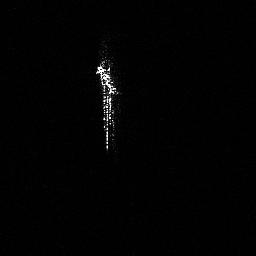ship: (93, 53, 124, 151)
